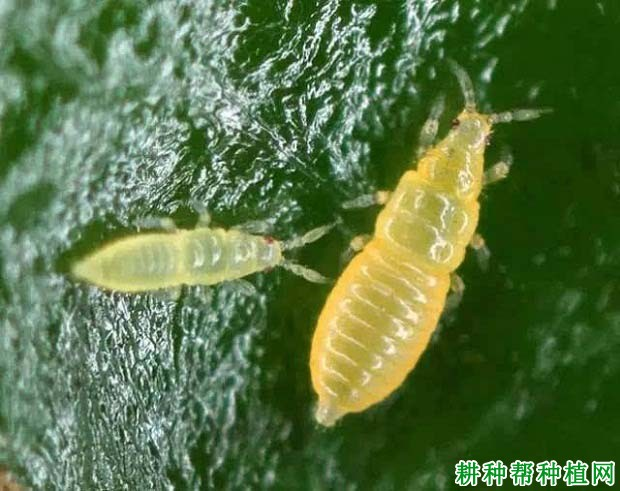thrips: (307, 59, 552, 428), (62, 211, 333, 295)
